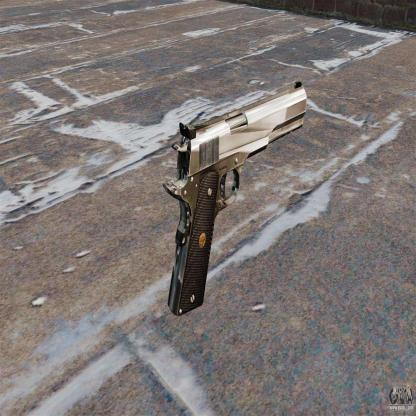handgun: (164, 80, 304, 317)
